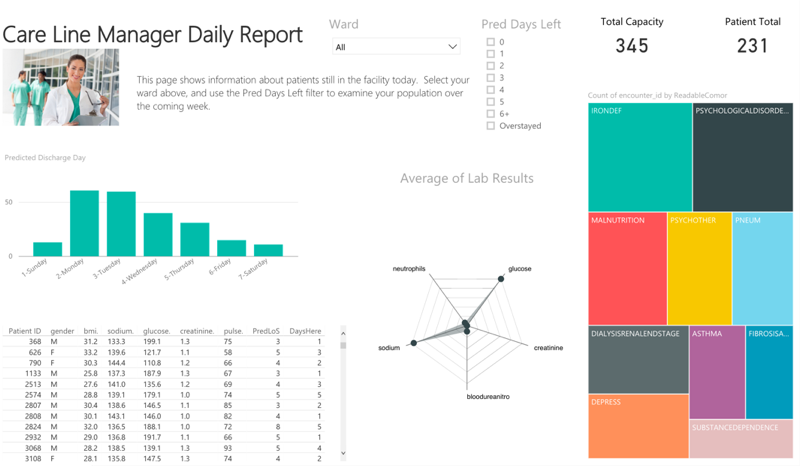

The dashboard page shown, as its layout file describes it:
{"tool":"powerbi","page":{"name":"Care Line Manager","canvas":[1280,720],"ordinal":1},"visuals":[{"type":"textbox","box":[73.9,0,497.6,77.5],"z":1},{"type":"card","fields":{"Values":["CountNonNull(ScordData.encounter_id)"]},"box":[712.1,0,266.8,117.2],"z":2},{"type":"columnChart","fields":{"Category":["ScordData.WeekDayName"],"Y":["CountNonNull(ScordData.Patient ID)"]},"box":[1.5,186.3,766.5,286.3],"z":3},{"type":"RadarChart1446119667547","fields":{"Y":["Avg(LabsBlowout.value)"],"Category":["LabsBlowout.variable"]},"box":[771.5,156.7,505,386.6],"z":5},{"type":"table","fields":{"Values":["ScordData.Patient ID","ScordData.Age","ScordData.gender","ScordData.weight","ScordData.bmi","ScordData.cholesterol","ScordData.diaBP","ScordData.sysBP","ScordData.sodium","ScordData.hemoglobin","ScordData.glucose","ScordData.creatinine"]},"box":[0,506.4,768,210.6],"z":5},{"type":"treemap","fields":{"Group":["comorsBlowout.ReadableComor"],"Values":["Count(comorsBlowout.encounter_id)"]},"box":[777,562.5,497.6,153.2],"z":7},{"type":"card","fields":{"Values":["CountNonNull(ScordData.encounter_id)"]},"box":[971.7,0,304.7,110],"z":8},{"type":"image","box":[0,18,72.1,36.1],"z":9},{"type":"card","fields":{"Values":["ScordData.MaxDate"]},"box":[298.4,80.3,175.7,69.7],"z":10},{"type":"slicer","fields":{"Values":["ScordData.IsWeekendHoldover"]},"box":[540.8,4.5,175.7,90.9],"z":12},{"type":"textbox","box":[260.5,81.8,60.6,50],"z":13},{"type":"card","fields":{"Values":["ScordData.OneWeekAgo"]},"box":[92.4,80.3,183.3,71.2],"z":14}]}

Visuals, with their boxes on the page's 1280x720 design canvas (x1, y1, x2, y2). These are canvas units, not pixel positions in the 800x466 screenshot, which may show the page scaled, cropped or inside an application window:
textbox: [74, 0, 572, 78]
card - CountNonNull(ScordData.encounter_id): [712, 0, 979, 117]
columnChart - ScordData.WeekDayName x CountNonNull(ScordData.Patient ID): [2, 186, 768, 473]
RadarChart1446119667547 - Avg(LabsBlowout.value) x LabsBlowout.variable: [772, 157, 1276, 543]
table - ScordData.Patient ID x ScordData.Age: [0, 506, 768, 717]
treemap - comorsBlowout.ReadableComor x Count(comorsBlowout.encounter_id): [777, 562, 1275, 716]
card - CountNonNull(ScordData.encounter_id): [972, 0, 1276, 110]
image: [0, 18, 72, 54]
card - ScordData.MaxDate: [298, 80, 474, 150]
slicer - ScordData.IsWeekendHoldover: [541, 4, 716, 95]
textbox: [260, 82, 321, 132]
card - ScordData.OneWeekAgo: [92, 80, 276, 152]
